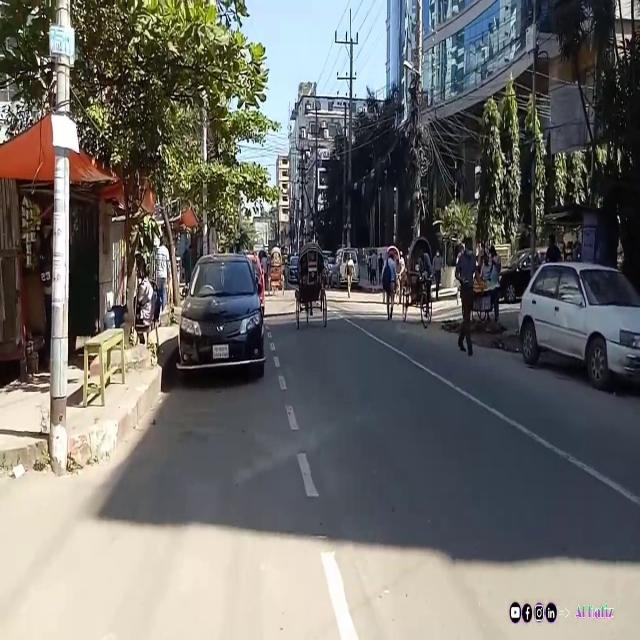black: (179, 248, 269, 396)
white: (515, 259, 640, 385), (338, 243, 363, 296)
